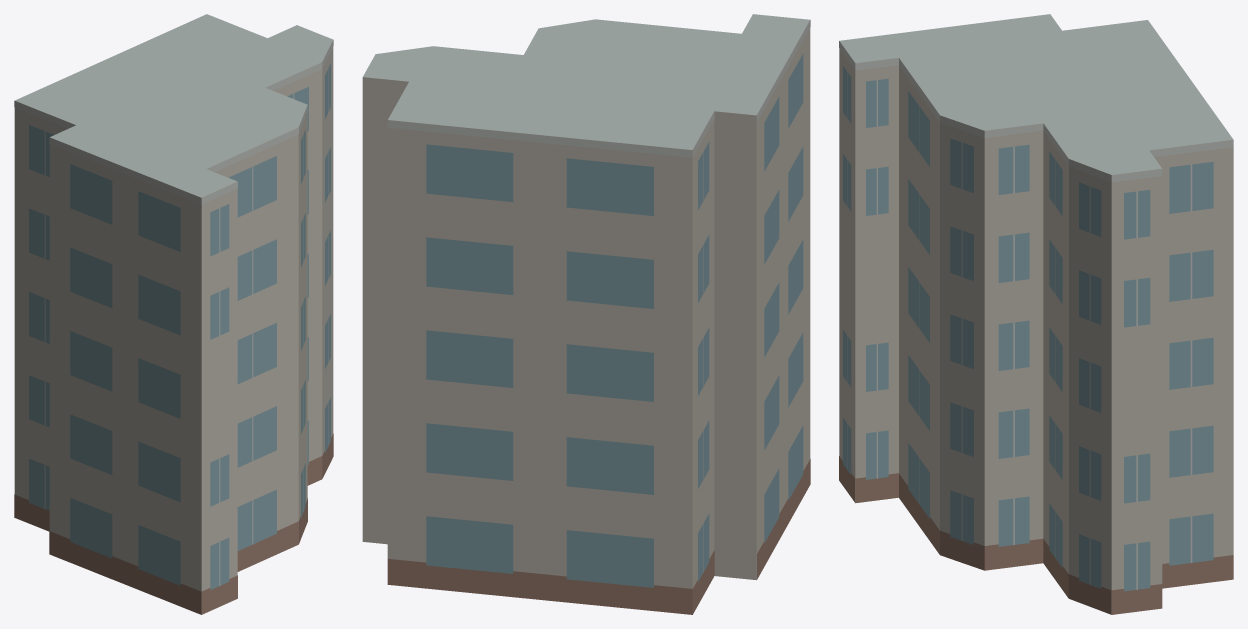
File: survey-upis-32991886.glb
3 views of the same model, side by side, from view 1: azimuth 30°, elevation 25°; view 2: azimuth 150°, elevation 25°; view 3: azimuth 270°, elevation 25° (orthographic). The views are drawn at different scales.
Visible parts, largest first — view 1: survey-upis-32991886.tmp; view 2: survey-upis-32991886.tmp; view 3: survey-upis-32991886.tmp.
Part boxes in pixels (x1,y1,x2,y2): survey-upis-32991886.tmp: (14, 14, 333, 614); survey-upis-32991886.tmp: (362, 14, 810, 614); survey-upis-32991886.tmp: (839, 14, 1233, 614).
Size of the model in its own units: 11.63 by 14.8 by 12.04.
